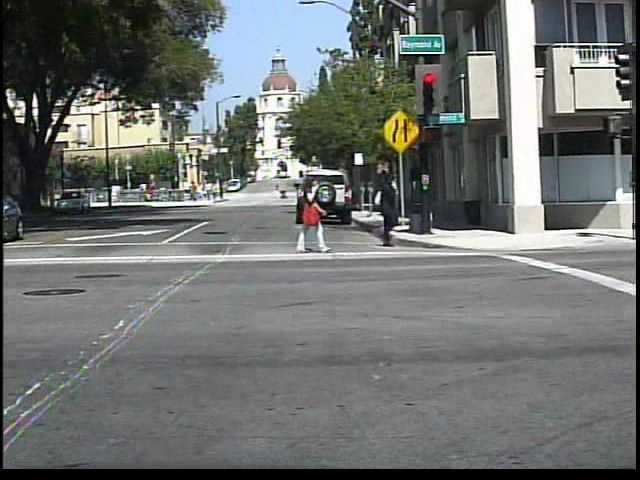person: (365, 168, 411, 250), (289, 169, 332, 253), (280, 186, 291, 203)
